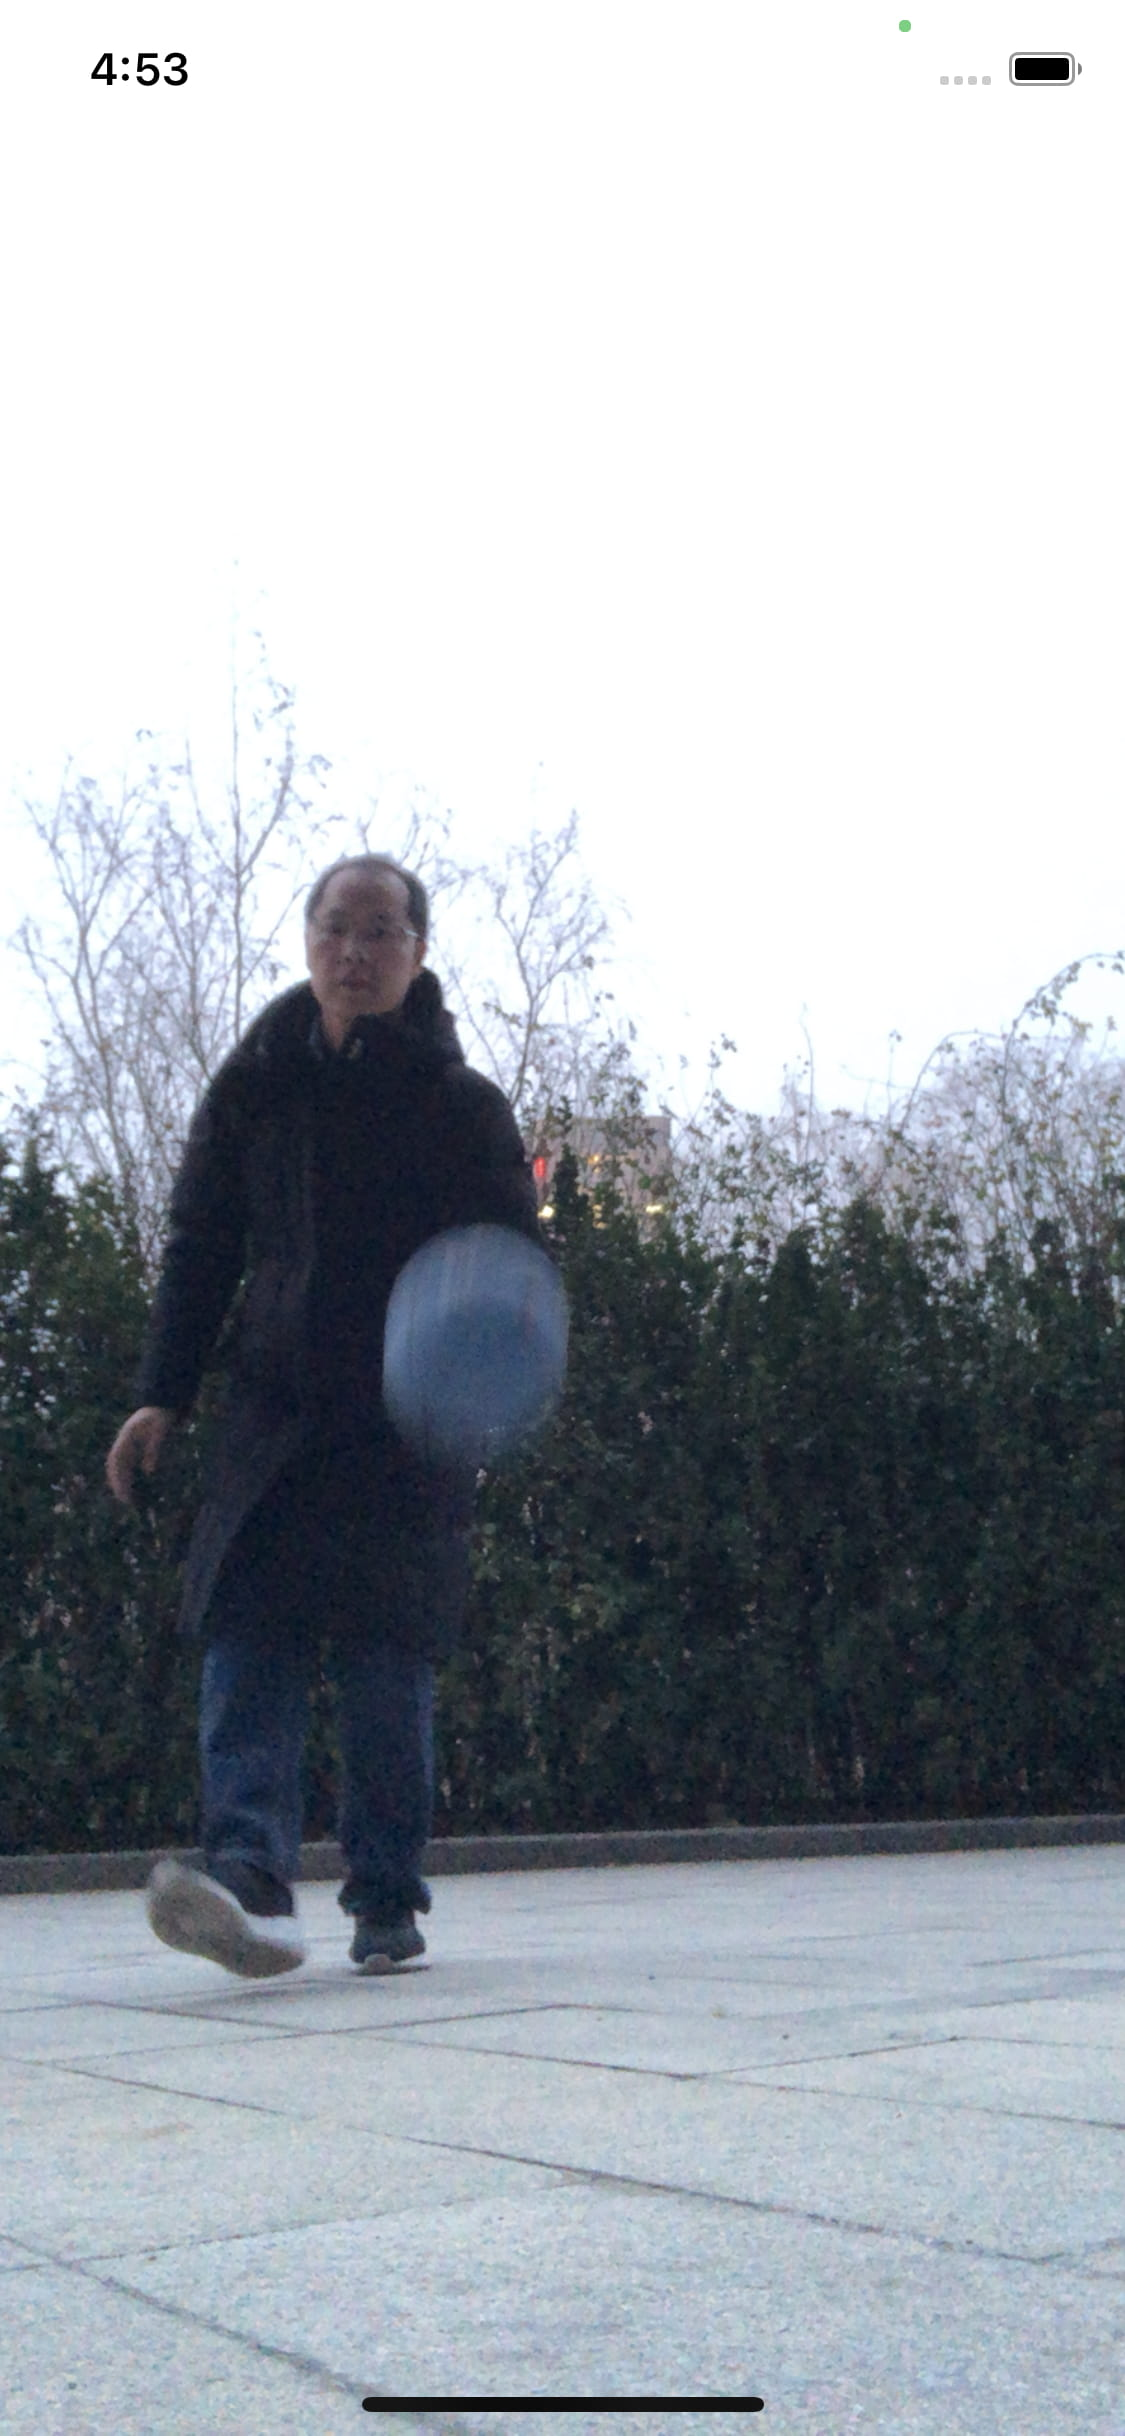ball: (385, 1220, 576, 1474)
